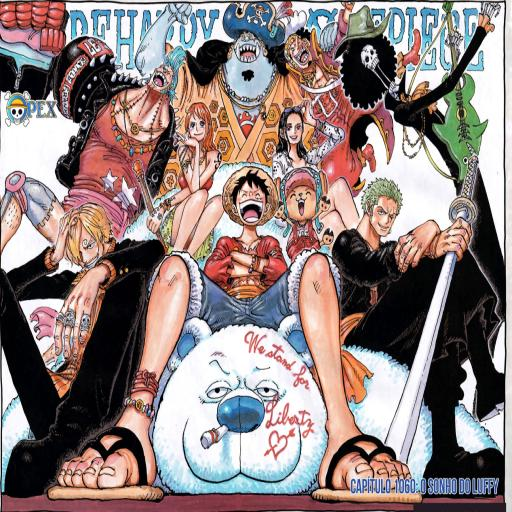Luffy: (187, 160, 293, 334)
Nami: (142, 98, 229, 260)
NicoRobin: (262, 98, 347, 183)
Usopp: (272, 28, 348, 103)
Zoro: (335, 161, 503, 482)
sanji: (13, 203, 154, 420)
